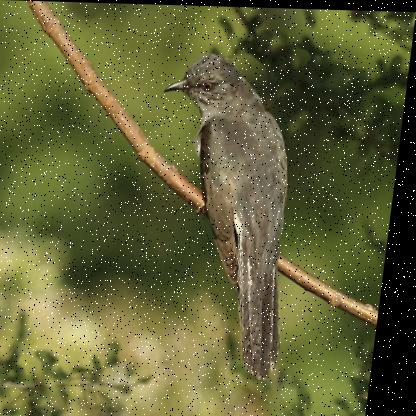Burung: (138, 51, 319, 380)
